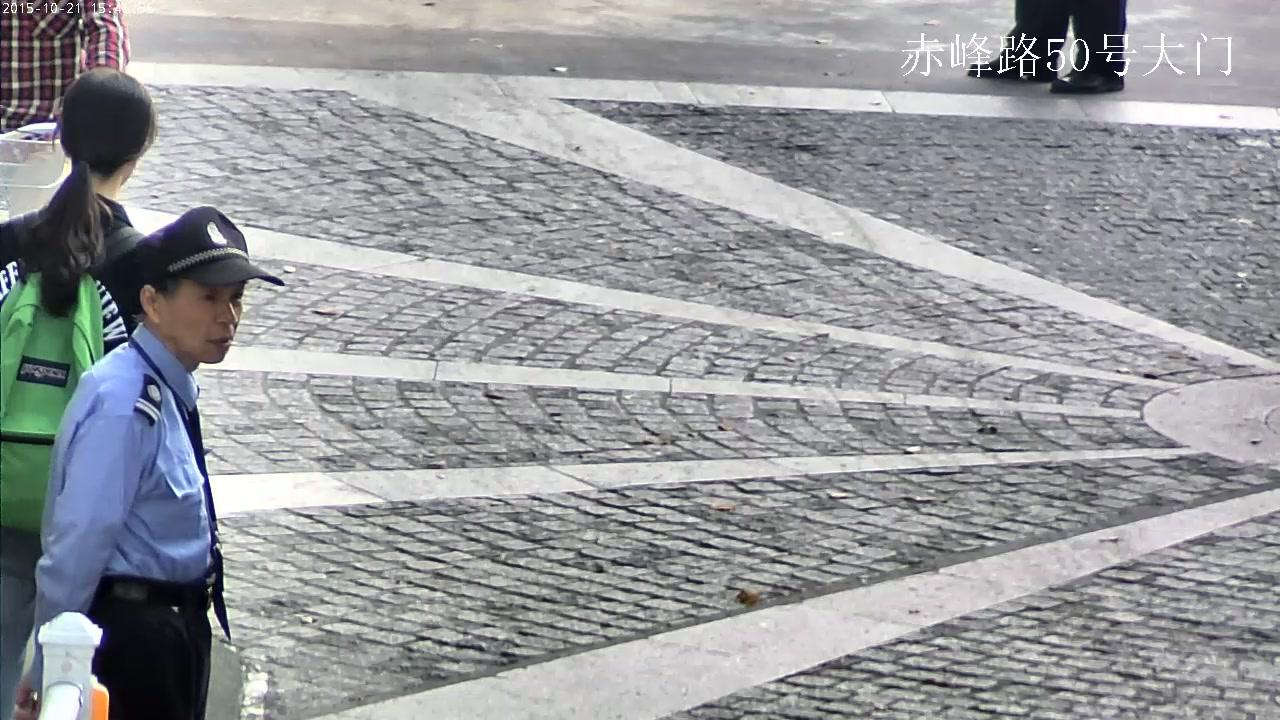face: (161, 277, 247, 363)
